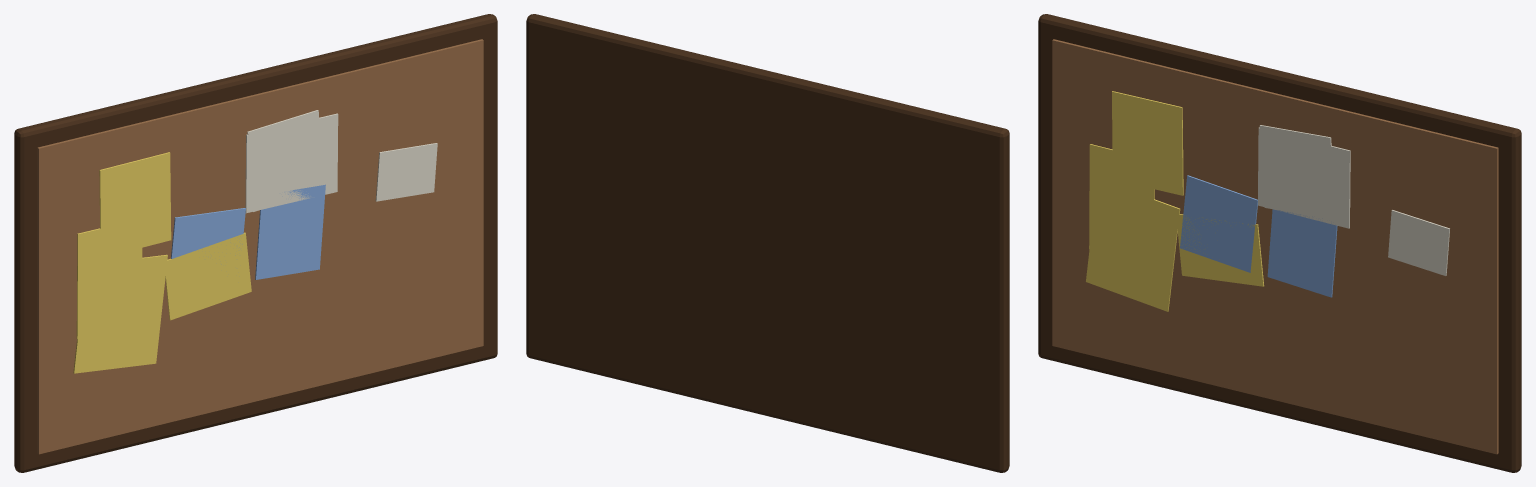
Rendered from notice_board.glb.
3 views of the same model, side by side, from view 1: azimuth 30°, elevation 25°; view 2: azimuth 150°, elevation 25°; view 3: azimuth 330°, elevation 25° (orthographic).
Visible parts, largest first — view 1: notice_board; view 2: notice_board; view 3: notice_board.
Boxes of the visible parts, <box> form: notice_board: <box>14,14,497,472</box>; notice_board: <box>526,14,1009,472</box>; notice_board: <box>1038,14,1521,472</box>.
Bounding box in the file's own units: 1.1 × 0.75 × 0.0395.
